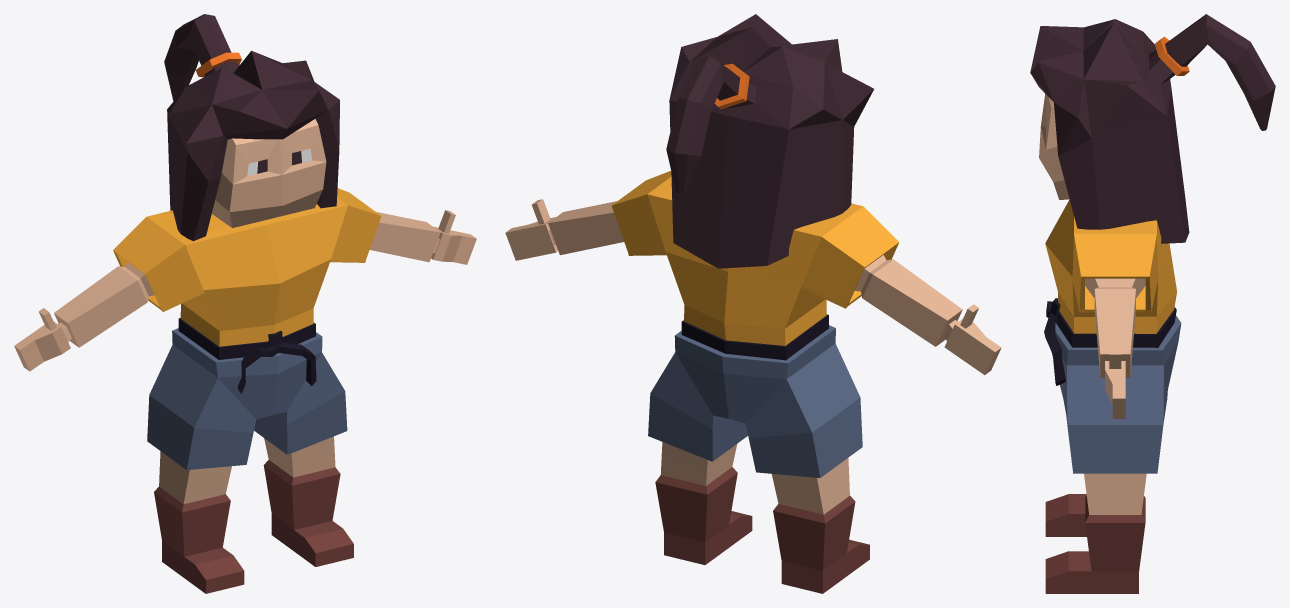
File: Player.fbx
3 renders of one model, left to right at view 1: azimuth 30°, elevation 25°; view 2: azimuth 150°, elevation 25°; view 3: azimuth 270°, elevation 25°, orthographic. The views are drawn at different scales.
Parts seen in each view (by area): view 1: Character; view 2: Character; view 3: Character.
Boxes of the visible parts, box(x1,y1,x2,y2) form: Character: box(14, 14, 476, 593); Character: box(505, 14, 1001, 593); Character: box(1030, 14, 1275, 593).
Size of the model in its own units: 221 by 234 by 96.28.
